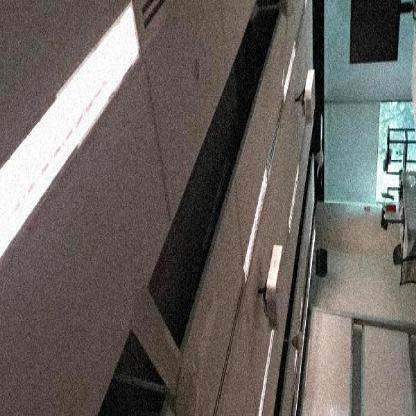light_on: (0, 0, 157, 278), (239, 160, 273, 284), (254, 324, 283, 414), (278, 35, 300, 102), (286, 164, 302, 238)
